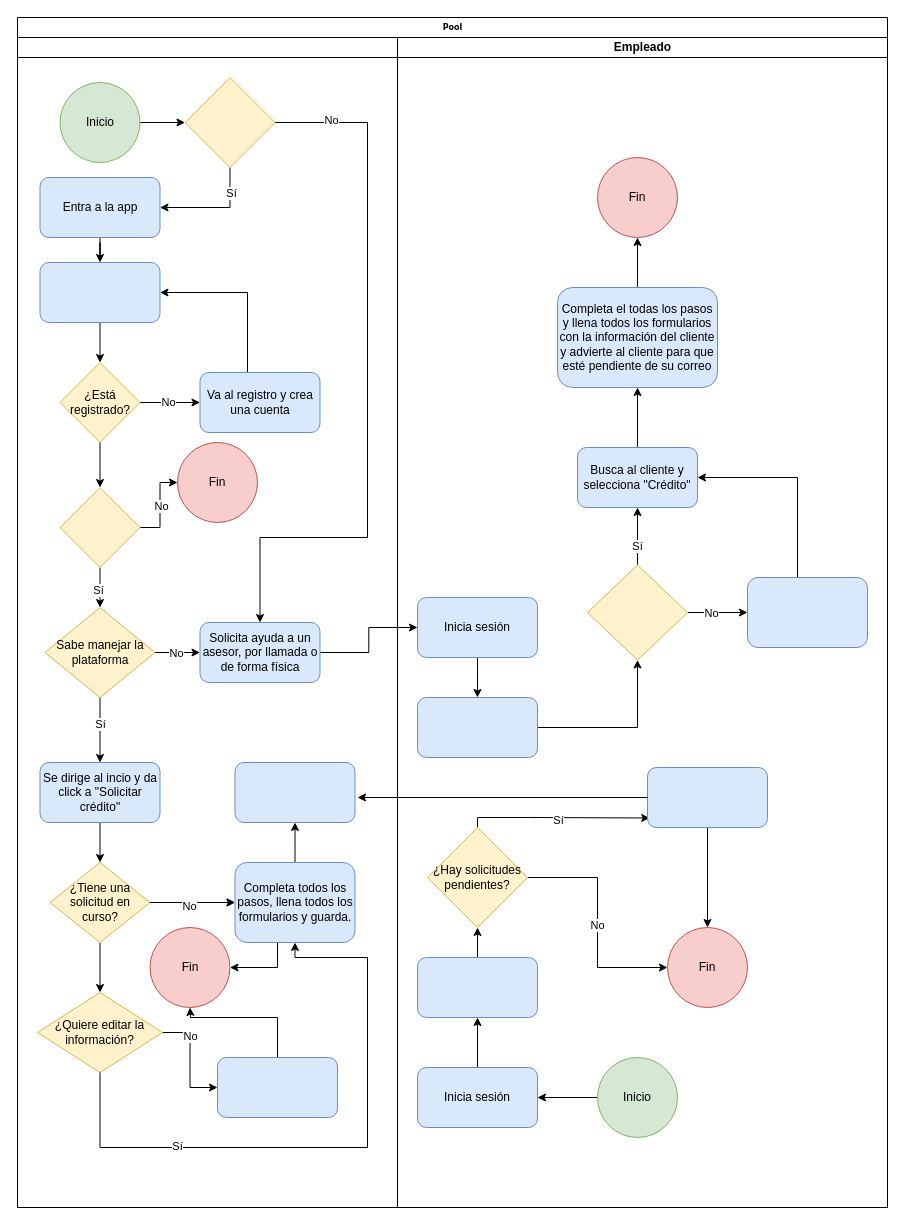
The diagram is 905 pixels wide and 1225 high, and some of its shapes have lost their labels. The box of each missing label's shape, as (x1, y1, x2, y2) in pixels:
Cliente: (16, 36, 398, 1208)
Espera la notificación y correo: (234, 762, 355, 822)
Revisa las solicitudes y cambia el estado al correspondiente: (646, 766, 768, 828)
Salta todos los pasos y verifica la información.: (216, 1056, 338, 1118)
Se dirige a "Clientes": (416, 696, 538, 758)
Se dirige a "inciar sesión": (39, 262, 160, 322)
Se dirige a "Solicitudes": (416, 956, 538, 1018)
Selecciona "Crear usuario" y llena el formulario: (746, 576, 868, 648)
¿Desea solicitar un crédito?: (59, 486, 140, 568)
¿El cliente ya tiene tiene una cuenta?: (586, 564, 688, 660)
¿Sabe usar aplicaciones web?: (184, 76, 275, 168)
